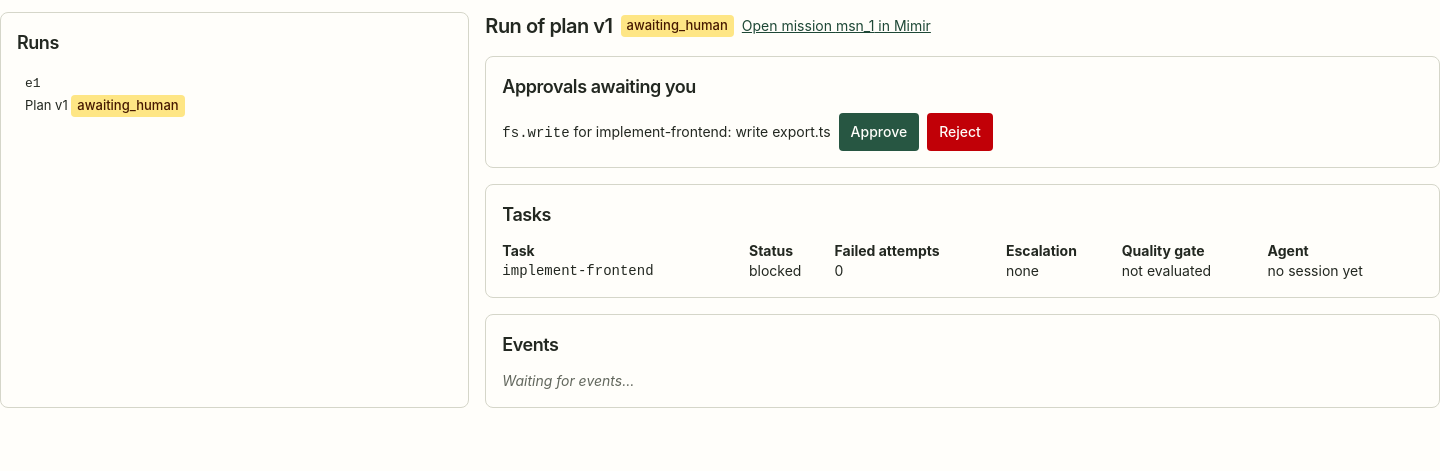
Test: RunsScreen › sends a human approval decision and reloads
Click the button with aria-label "Approve fs.write for implement-frontend": coordinates (879, 132) top-left (839, 113), bottom-right (919, 151)
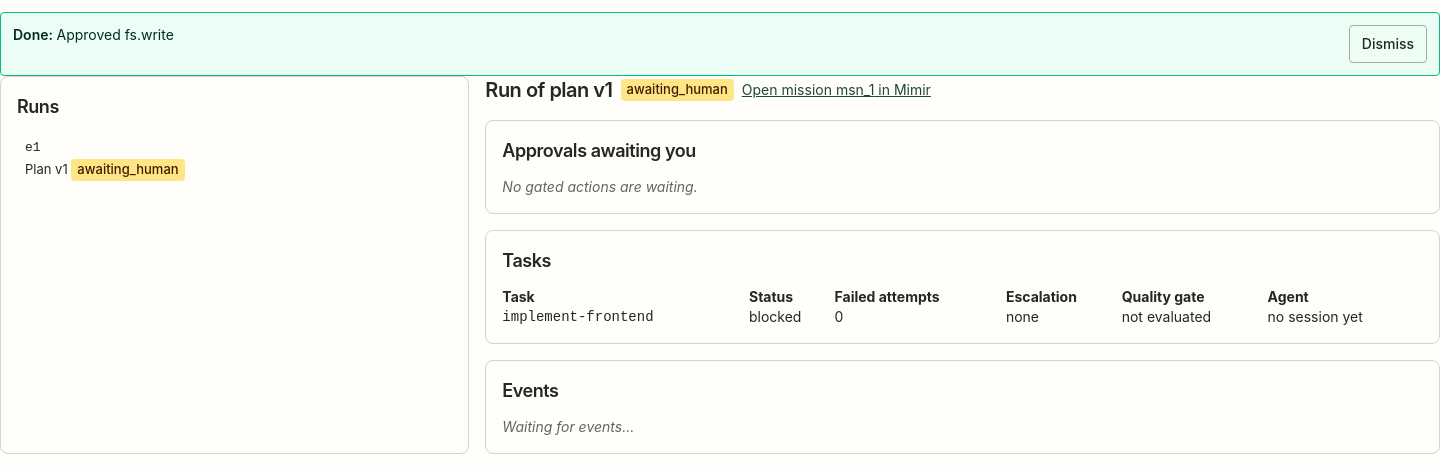
Expected: the message shows "Approved fs.write", top-left (56, 26), bottom-right (174, 43)
